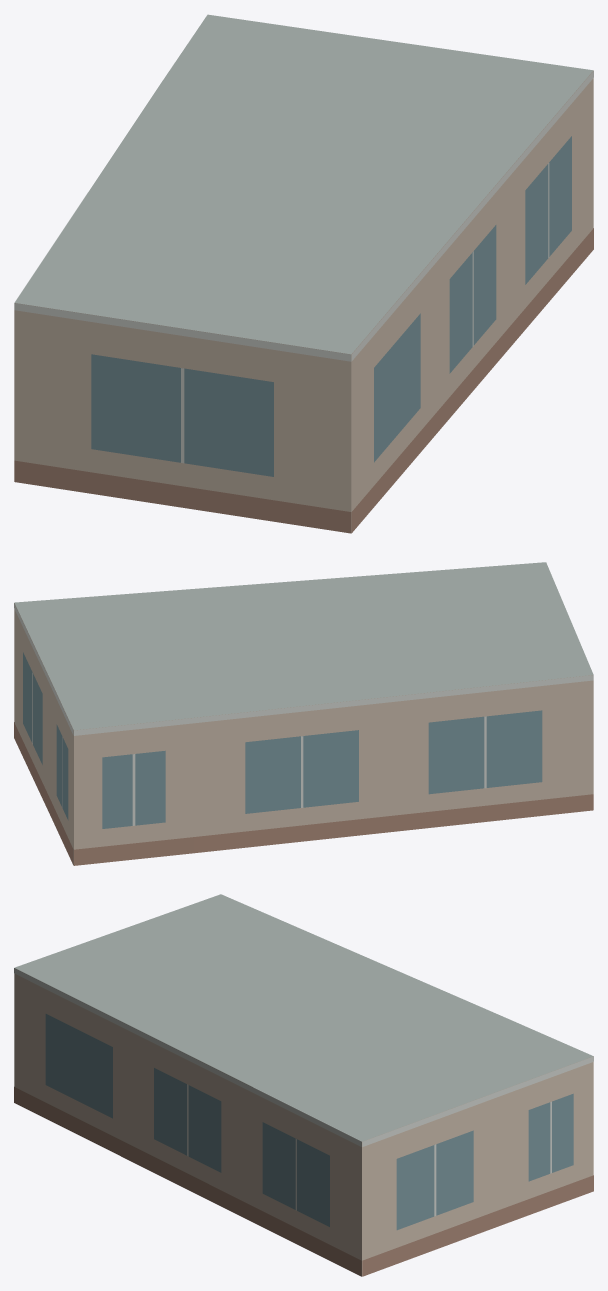
The model's file is survey-upis-32613347.glb.
3 renders of one model, top to bottom at view 1: azimuth 30°, elevation 25°; view 2: azimuth 150°, elevation 25°; view 3: azimuth 270°, elevation 25°, orthographic. The views are drawn at different scales.
Visible parts, largest first — view 1: survey-upis-32613347.tmp; view 2: survey-upis-32613347.tmp; view 3: survey-upis-32613347.tmp.
Boxes of the visible parts, x1=… form: survey-upis-32613347.tmp: x1=14, y1=14, x2=593, y2=533; survey-upis-32613347.tmp: x1=14, y1=562, x2=593, y2=865; survey-upis-32613347.tmp: x1=14, y1=894, x2=593, y2=1276.
Bounding box in the file's own units: 12 × 3.05 × 11.87.
